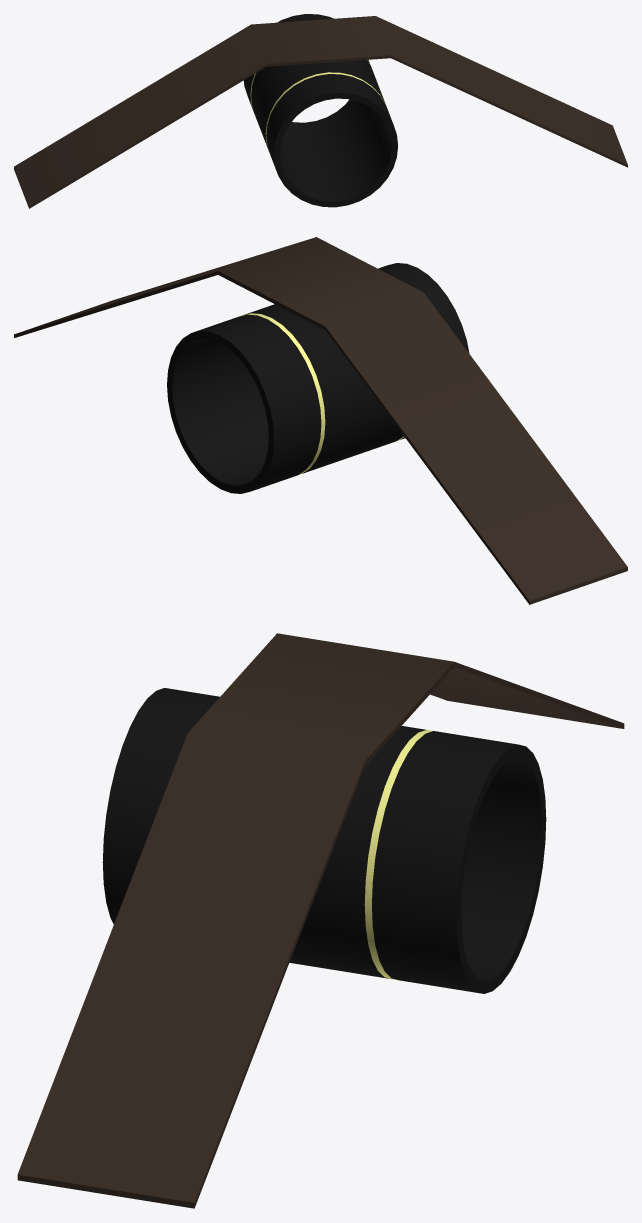
Rendered from MSH_Barril_Madera.FBX.
3 renders of one model, top to bottom at view 1: azimuth 30°, elevation 25°; view 2: azimuth 150°, elevation 25°; view 3: azimuth 270°, elevation 25°, orthographic. The views are drawn at different scales.
Parts seen in each view (by area): view 1: MSH_Barril_Madera; view 2: MSH_Barril_Madera; view 3: MSH_Barril_Madera.
Boxes of the visible parts, x1,y1,x2,y2 form: MSH_Barril_Madera: (14, 14, 627, 208); MSH_Barril_Madera: (14, 237, 627, 604); MSH_Barril_Madera: (17, 633, 624, 1208).
Size of the model in its own units: 476 by 113 by 240.
